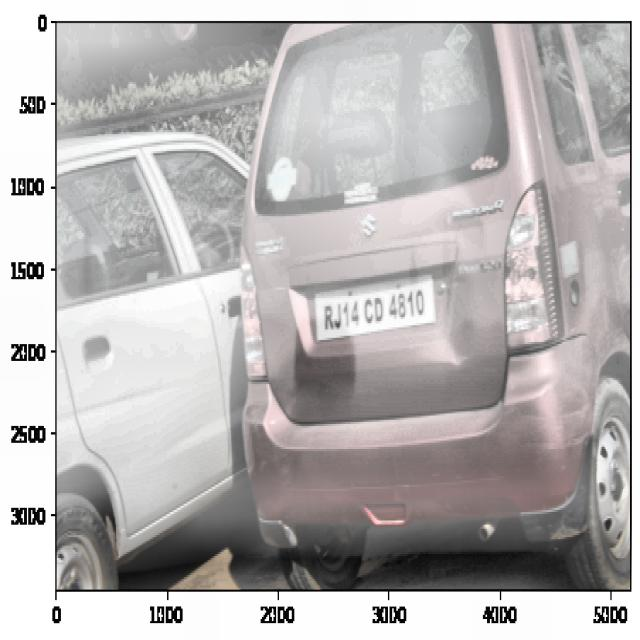license_plate: (318, 285, 430, 333)
